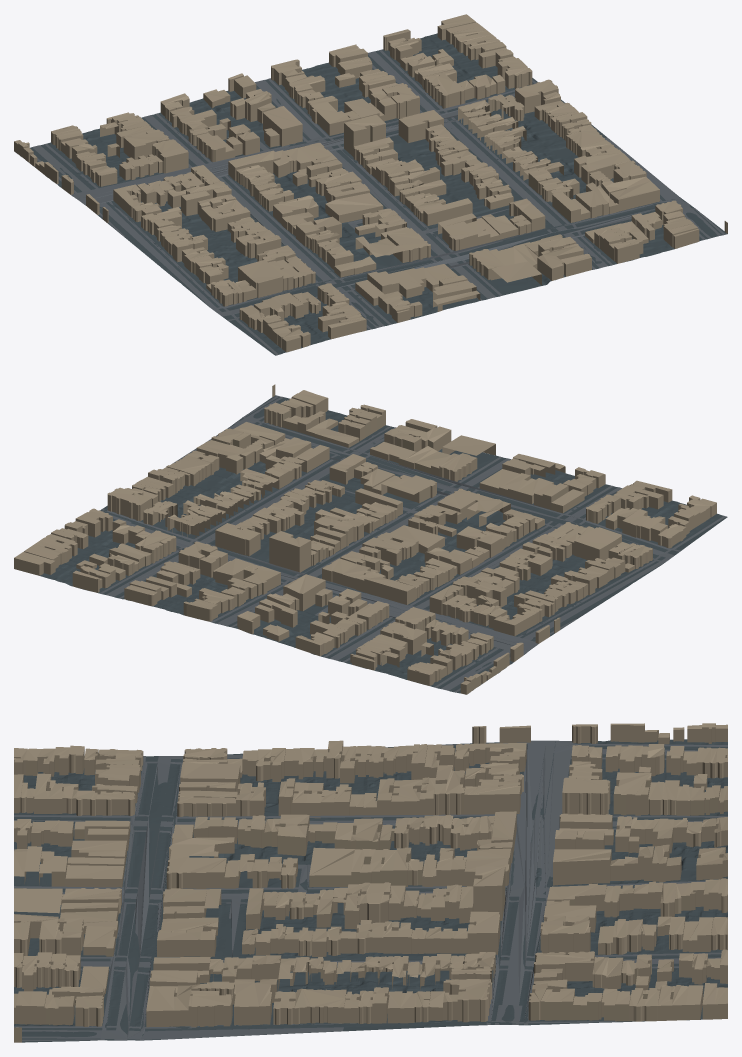
The model's file is epsg26910-1424-10884.lod0.glb.
3 renders of one model, top to bottom at view 1: azimuth 30°, elevation 25°; view 2: azimuth 150°, elevation 25°; view 3: azimuth 270°, elevation 25°, orthographic. The views are drawn at different scales.
Visible parts, largest first — view 1: epsg26910-1424-10884-lod0; view 2: epsg26910-1424-10884-lod0; view 3: epsg26910-1424-10884-lod0.
Part boxes in pixels (box(x1,y1,x2,y2)): epsg26910-1424-10884-lod0: box(14, 14, 727, 355); epsg26910-1424-10884-lod0: box(14, 384, 727, 694); epsg26910-1424-10884-lod0: box(14, 723, 727, 1042).
Bounding box in the file's own units: 384 × 34.19 × 384.
